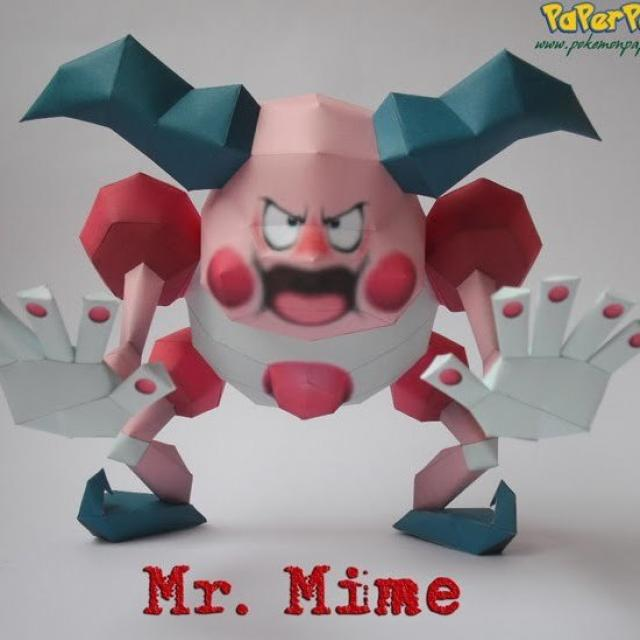MrMime: (16, 28, 640, 537)
